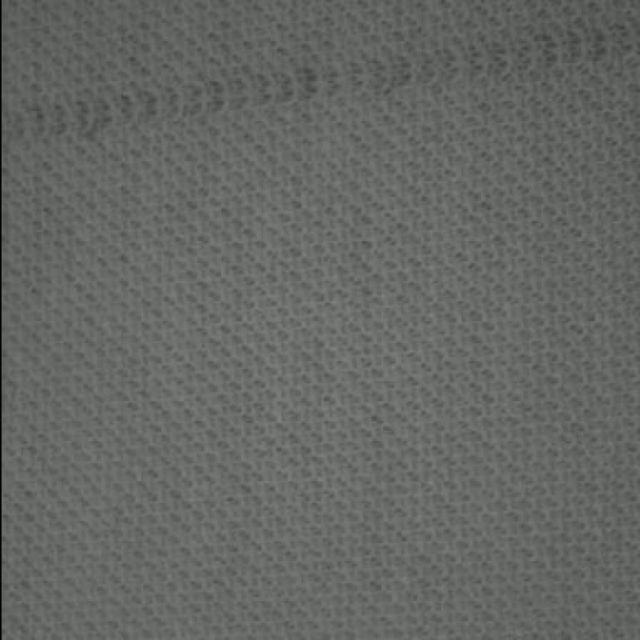Line: (6, 18, 640, 146)
